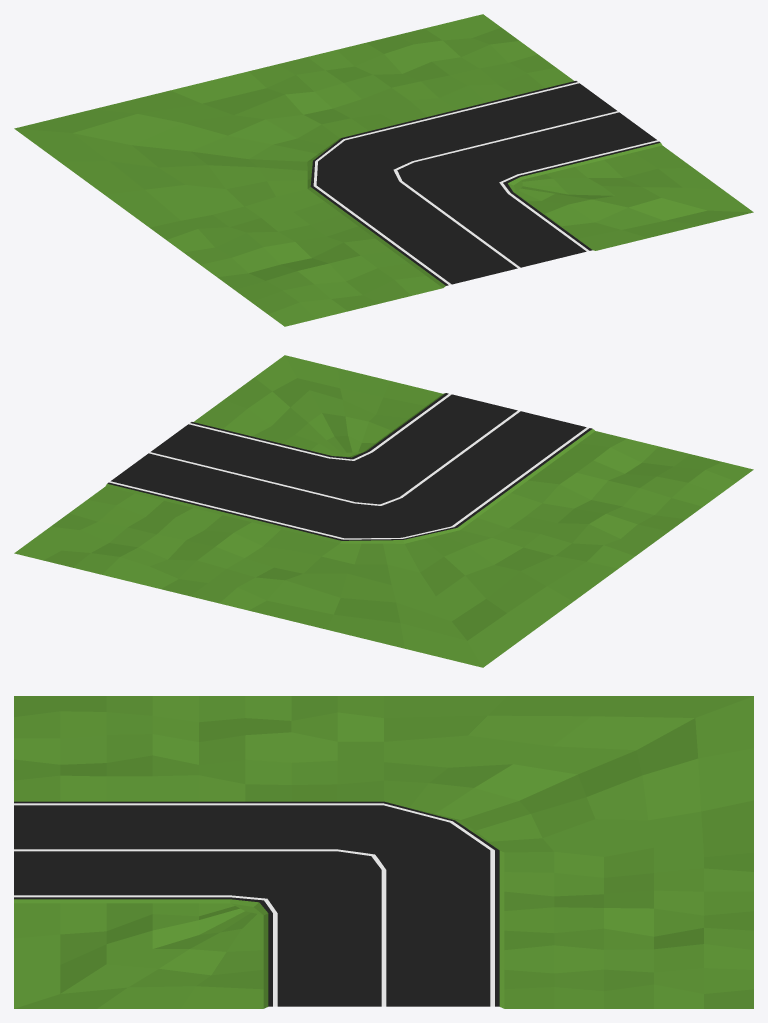
File: street_L_land.fbx
3 renders of one model, top to bottom at view 1: azimuth 30°, elevation 25°; view 2: azimuth 150°, elevation 25°; view 3: azimuth 270°, elevation 25°, orthographic. The views are drawn at different scales.
Visible parts, largest first — view 1: street_L_land; view 2: street_L_land; view 3: street_L_land.
Boxes of the visible parts, x1=… form: street_L_land: x1=14, y1=14, x2=753, y2=326; street_L_land: x1=14, y1=355, x2=753, y2=667; street_L_land: x1=14, y1=696, x2=753, y2=1008.
Bounding box in the file's own units: 3200 × 58.78 × 3200.
